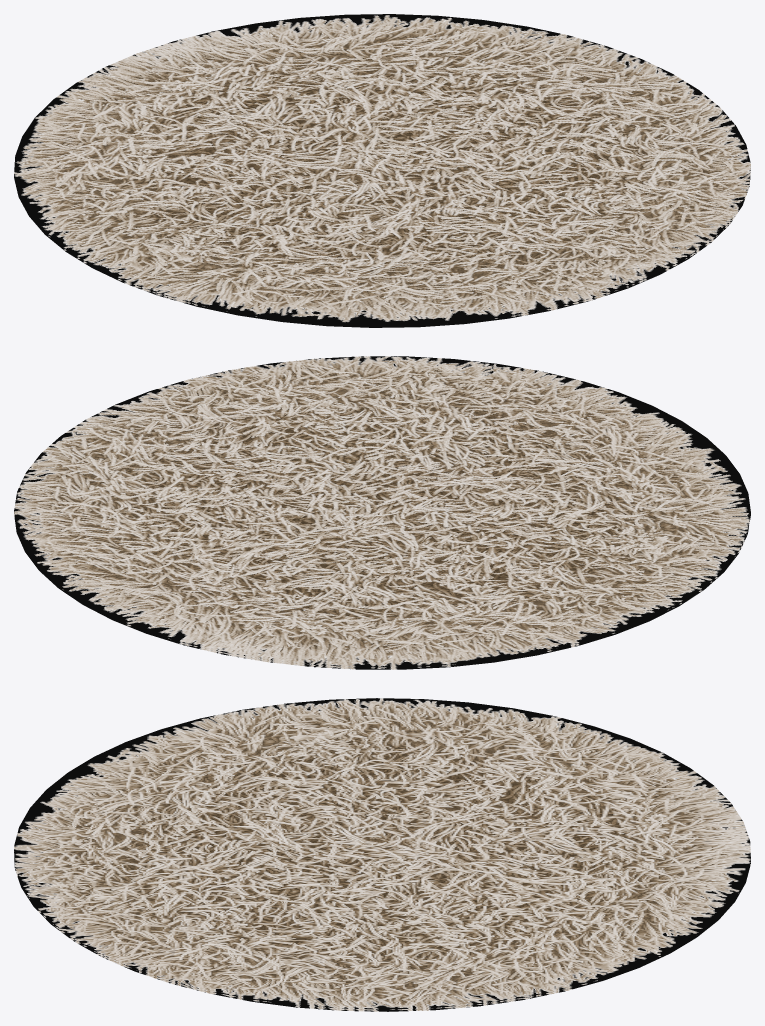
File: carpet_7.glb
3 renders of one model, top to bottom at view 1: azimuth 30°, elevation 25°; view 2: azimuth 150°, elevation 25°; view 3: azimuth 270°, elevation 25°, orthographic.
Parts seen in each view (by area): view 1: root; view 2: root; view 3: root.
Part boxes in pixels (x1,y1,x2,y2): root: (14,14,750,327); root: (14,356,750,669); root: (14,698,750,1011).
Bounding box in the file's own units: 1.5 × 0.005 × 1.5.
Materials: 1 (1 with a texture image).
